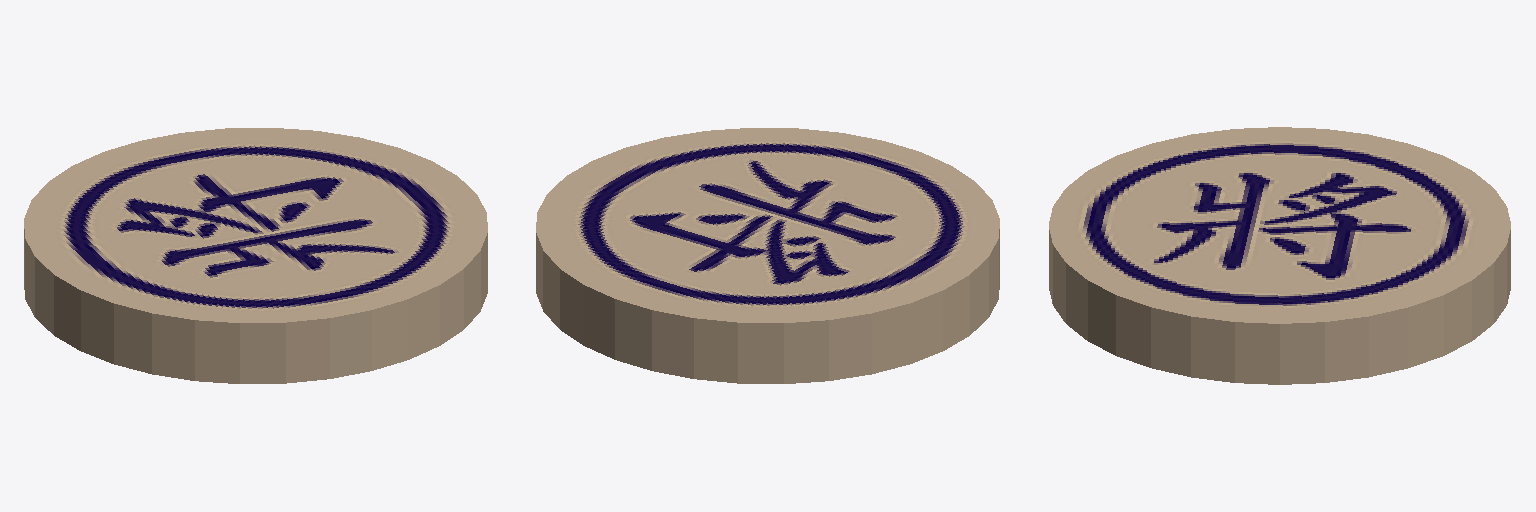
3 views of the same model, side by side, from view 1: azimuth 30°, elevation 25°; view 2: azimuth 150°, elevation 25°; view 3: azimuth 270°, elevation 25° (orthographic).
Visible parts, largest first — view 1: Cylinder; view 2: Cylinder; view 3: Cylinder.
Boxes of the visible parts, <box> form: Cylinder: <box>24,128,487,383</box>; Cylinder: <box>536,128,999,383</box>; Cylinder: <box>1049,127,1510,384</box>.
Size of the model in its own units: 0.3145 by 0.0454 by 0.3123.
1 materials, 1 textured.